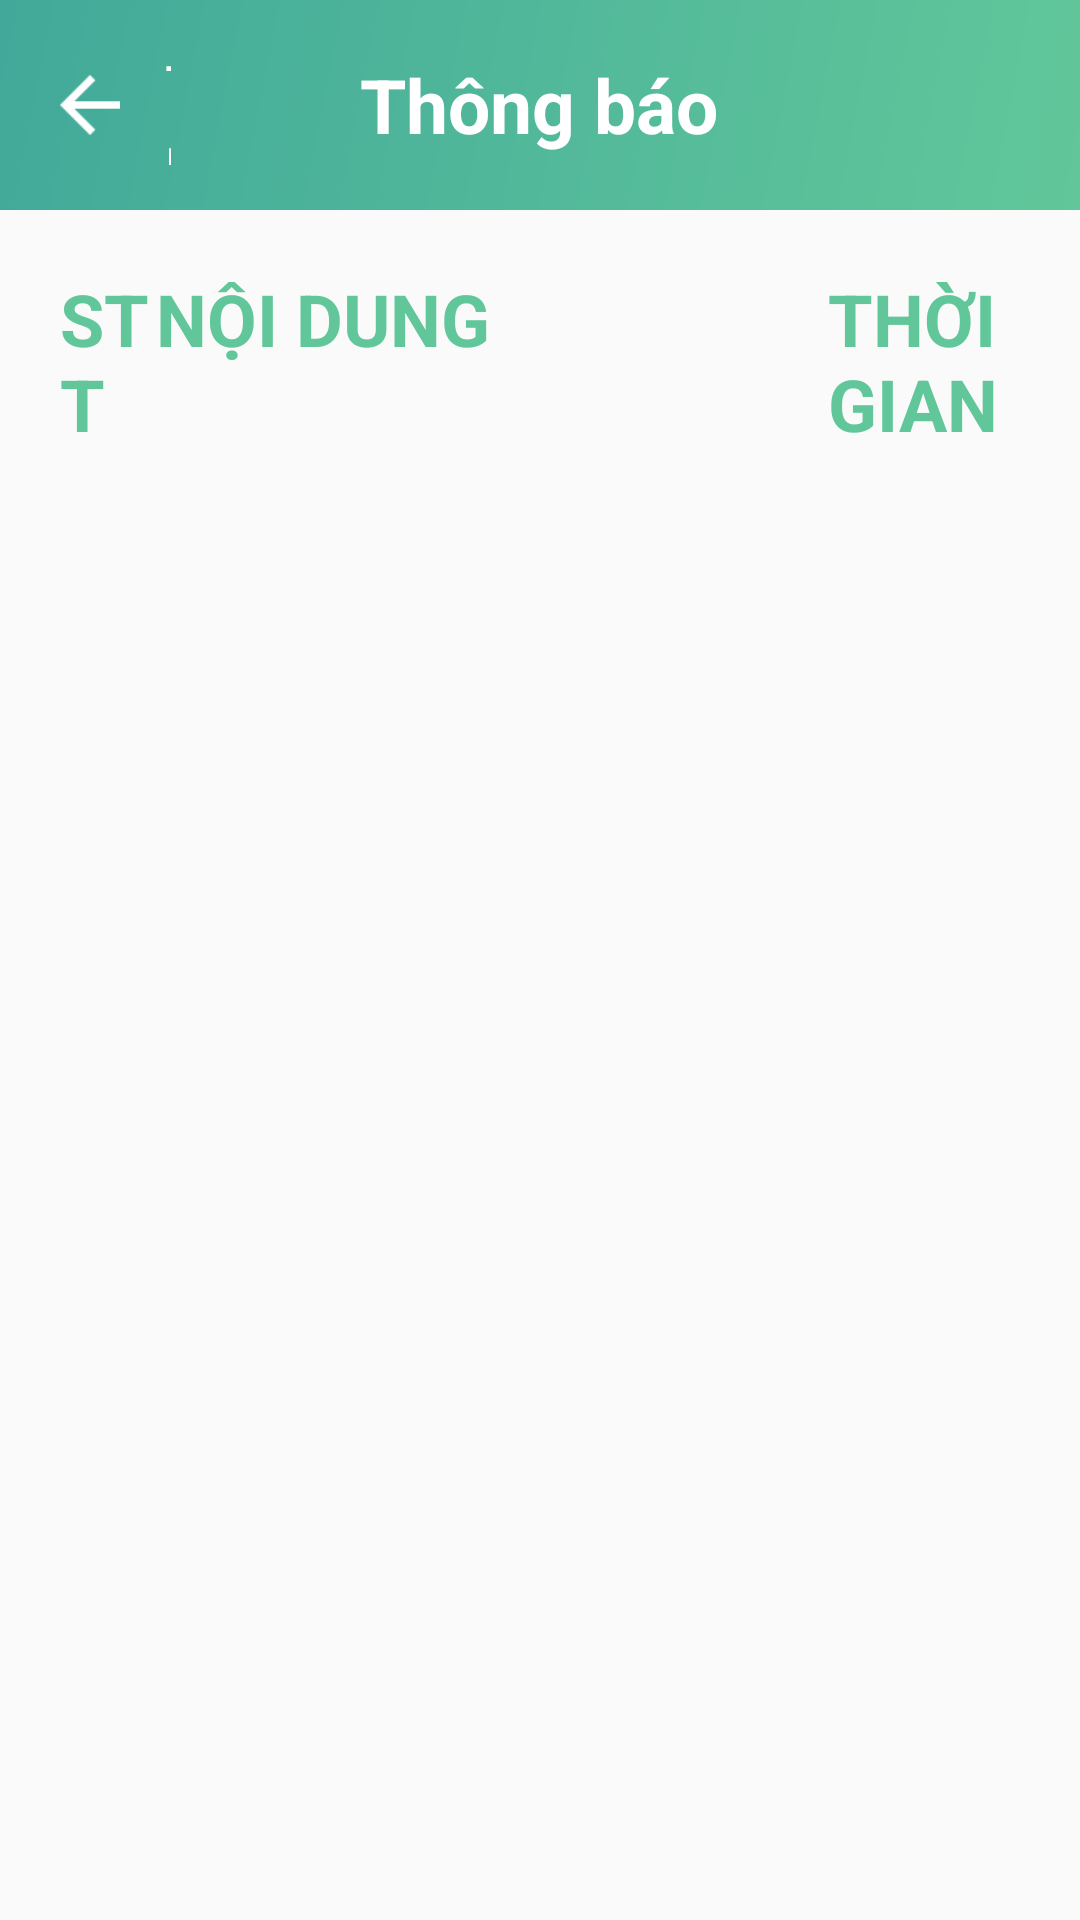

Icons on this 1080 × 1920 Android screen, each with its box as bbox=(x1, y1, x2, y2):
back: bbox=(60, 75, 120, 135)
